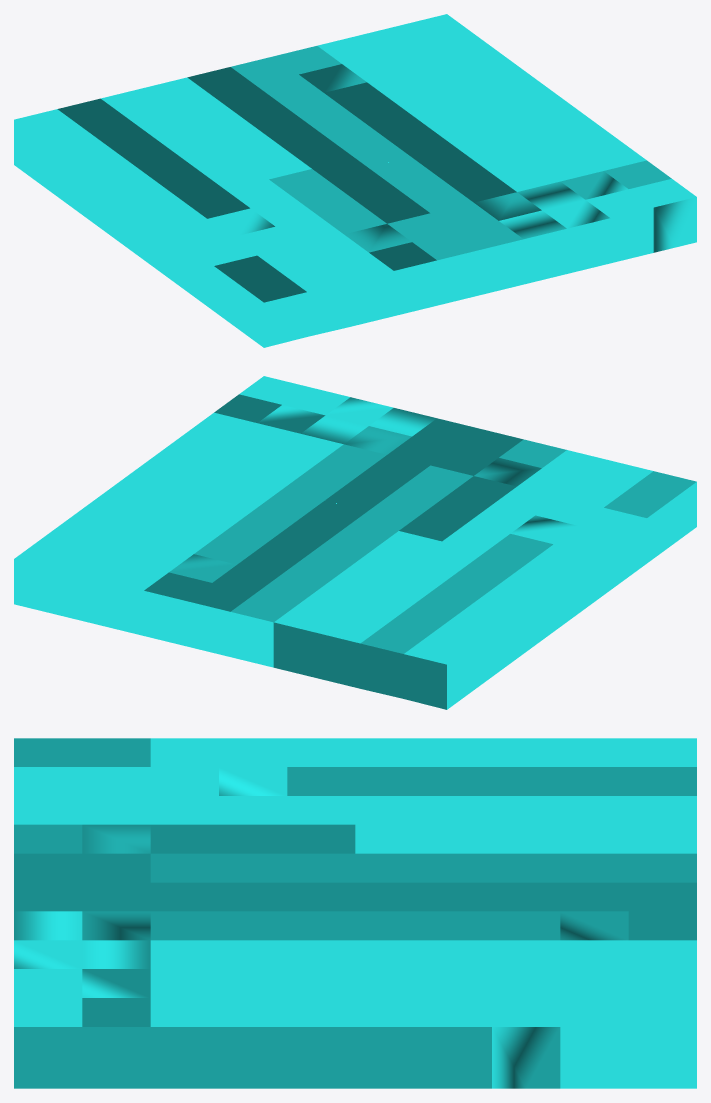
File: water.fbx
The picture shows the model from 3 angles, top to bottom: view 1: azimuth 30°, elevation 25°; view 2: azimuth 150°, elevation 25°; view 3: azimuth 270°, elevation 25°; orthographic projection. The views are drawn at different scales.
Visible parts, largest first — view 1: 立方体_6; view 2: 立方体_6; view 3: 立方体_6.
Boxes of the visible parts, left/top/right/bottom form: 立方体_6: left=14, top=14, right=696, bottom=347; 立方体_6: left=14, top=376, right=696, bottom=709; 立方体_6: left=14, top=738, right=696, bottom=1088.
Bounding box in the file's own units: 102 × 10.2 × 102.
